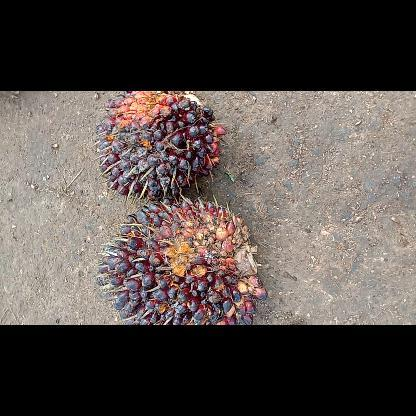Kurang masak: (94, 196, 270, 324), (96, 90, 228, 206)
